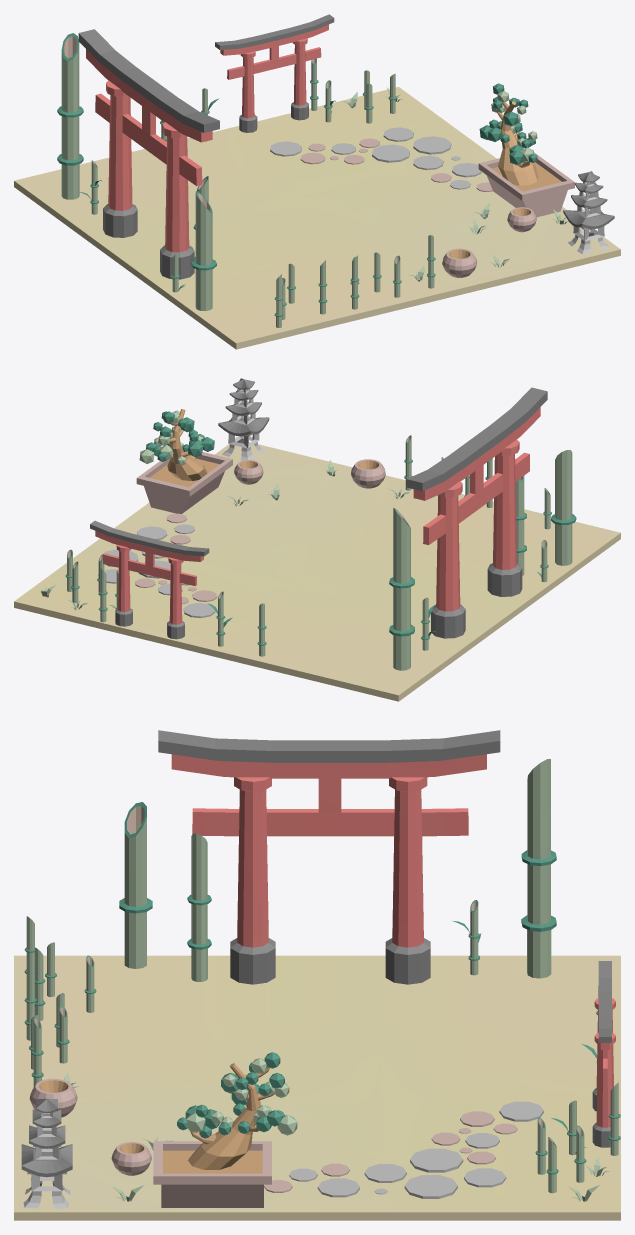
Rendered from meta.glb.
3 views of the same model, one above another, from view 1: azimuth 30°, elevation 25°; view 2: azimuth 150°, elevation 25°; view 3: azimuth 270°, elevation 25° (orthographic). The views are drawn at different scales.
Visible parts, largest first — view 1: Cube.024; view 2: Cube.024; view 3: Cube.024.
Part boxes in pixels (<box>): Cube.024: <box>14,14,620,349</box>; Cube.024: <box>14,378,620,701</box>; Cube.024: <box>14,730,620,1220</box>.
Bounding box in the file's own units: 3.6 × 1.6 × 3.55.
1 material, 1 textured.
